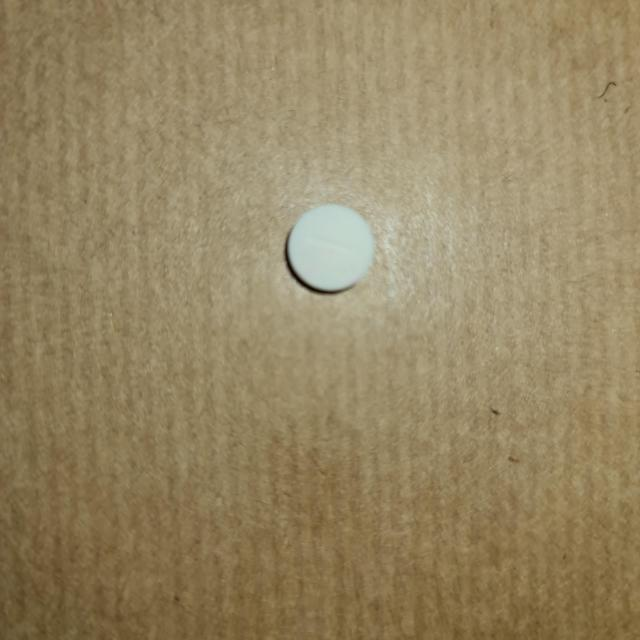pill: (288, 202, 376, 290)
